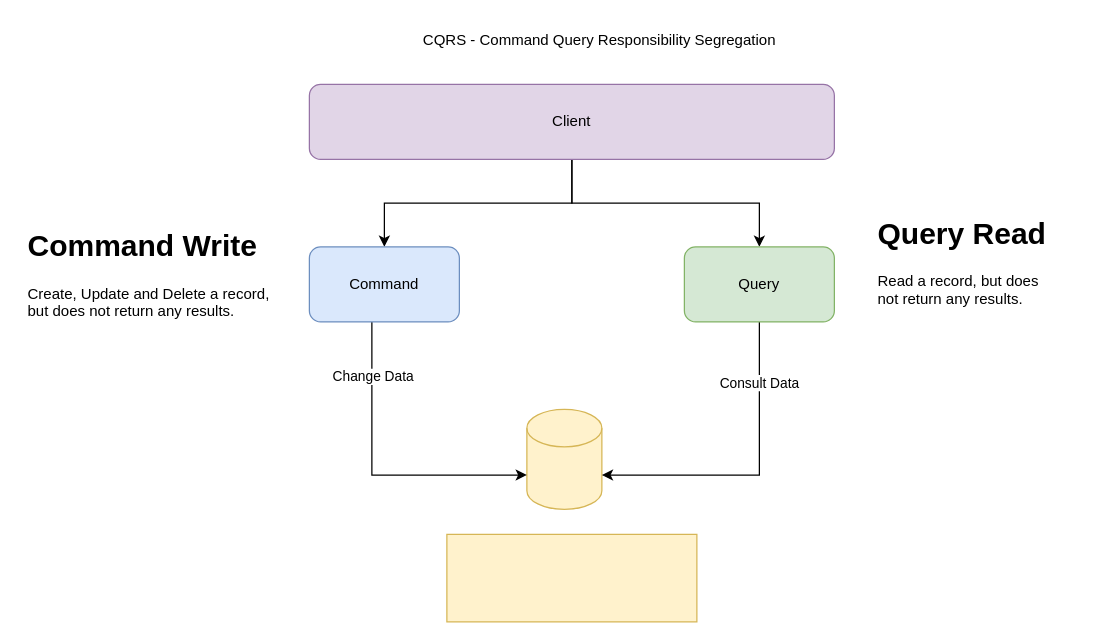
Image size: 1098x644. Some labels were removed from this diagram. Here are the shapes that lost their labels. From the top down, the box of each, then its label:
(526, 408, 602, 509): DB
(446, 533, 697, 622): Single Database All Persistence
